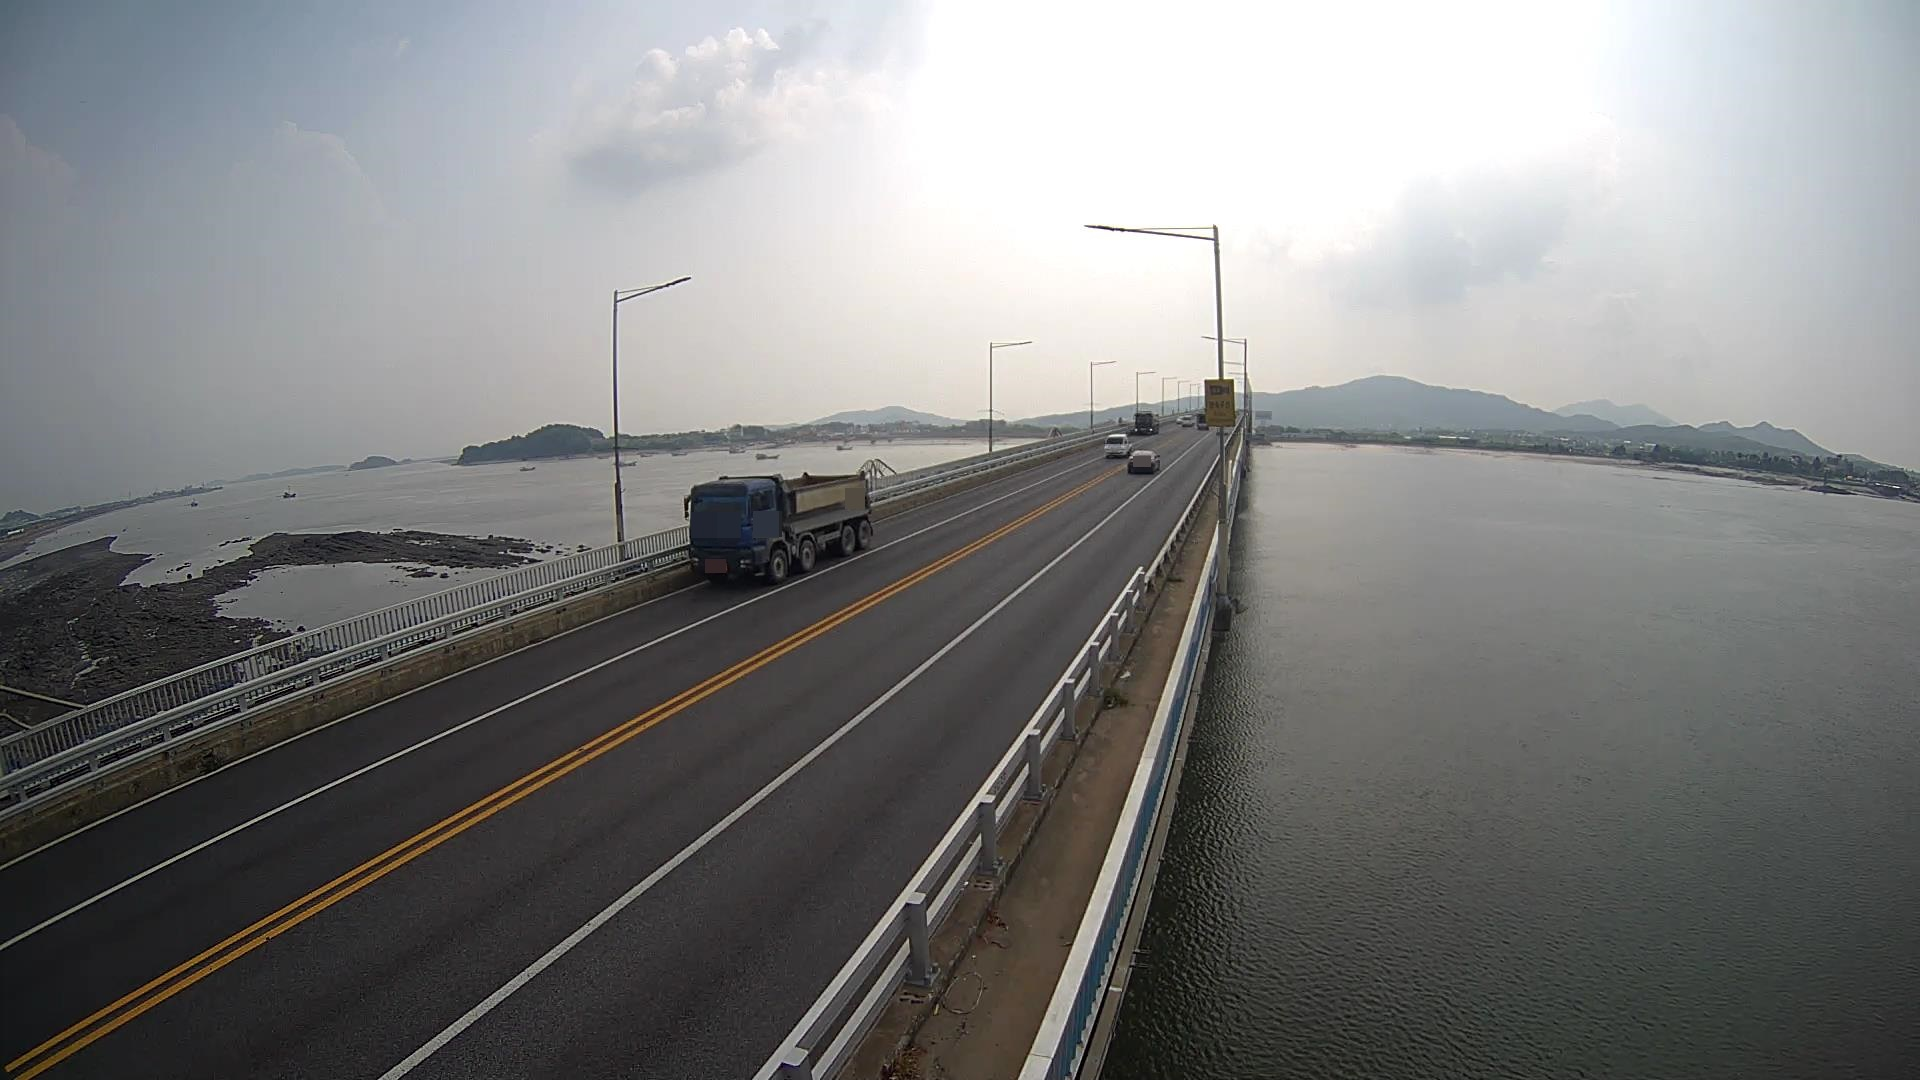정상차량: (682, 471, 874, 584)
